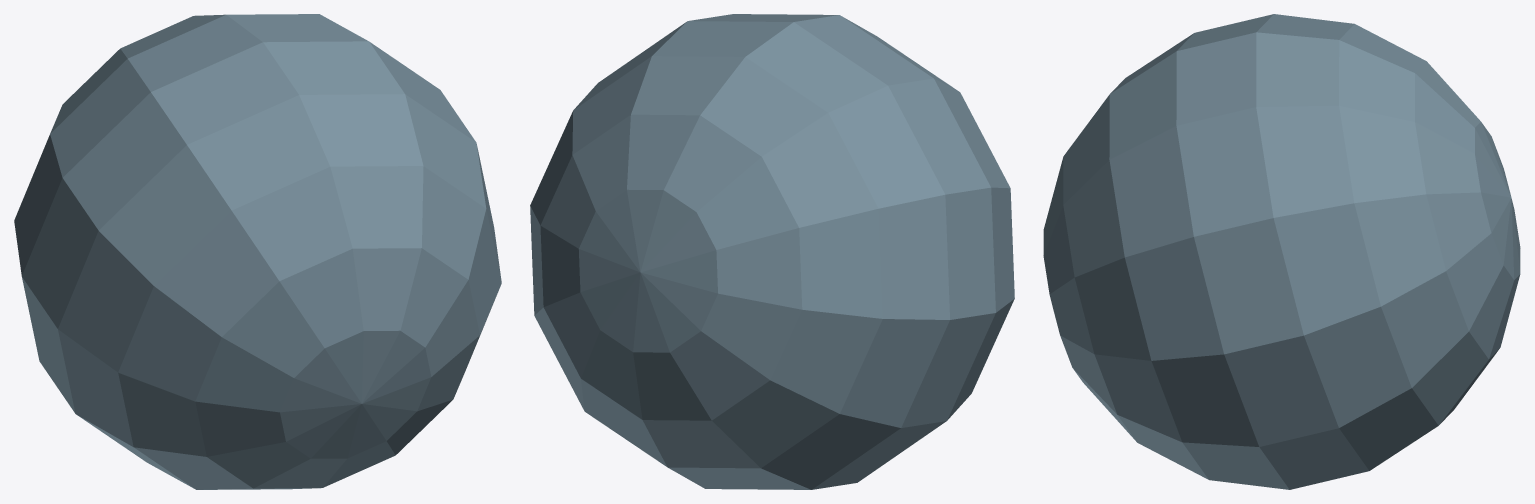
Rendered from astronaut_spawn_group1679735649_lev4.glb.
3 views of the same model, side by side, from view 1: azimuth 30°, elevation 25°; view 2: azimuth 150°, elevation 25°; view 3: azimuth 270°, elevation 25° (orthographic). The views are drawn at different scales.
Visible parts, largest first — view 1: astronaut_spawn_group1679735649_lev4; view 2: astronaut_spawn_group1679735649_lev4; view 3: astronaut_spawn_group1679735649_lev4.
Part boxes in pixels (x1=…): astronaut_spawn_group1679735649_lev4: x1=14, y1=14, x2=501, y2=489; astronaut_spawn_group1679735649_lev4: x1=530, y1=14, x2=1014, y2=489; astronaut_spawn_group1679735649_lev4: x1=1043, y1=14, x2=1520, y2=489.
Size of the model in its own units: 0.0328 by 0.0329 by 0.0329.
